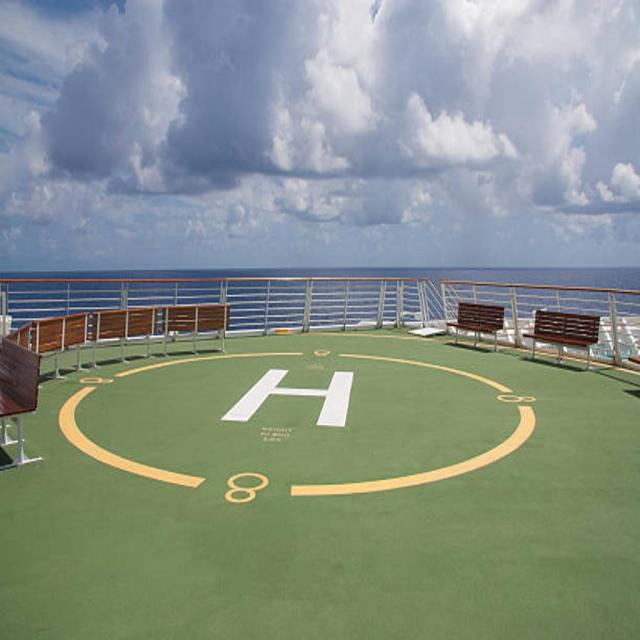helipad: (56, 348, 536, 497)
